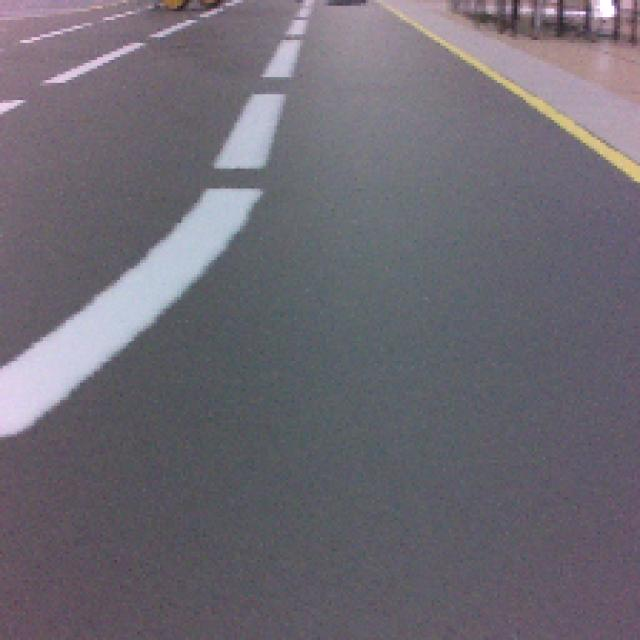Road: (0, 349, 640, 640)
